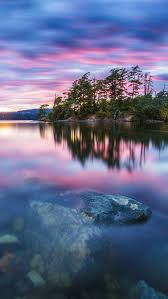lake: (5, 123, 168, 297)
mountain: (52, 77, 168, 122)
sky: (2, 1, 168, 67)
